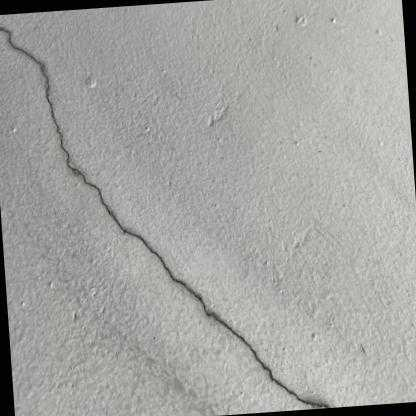crack: (0, 26, 330, 408)
